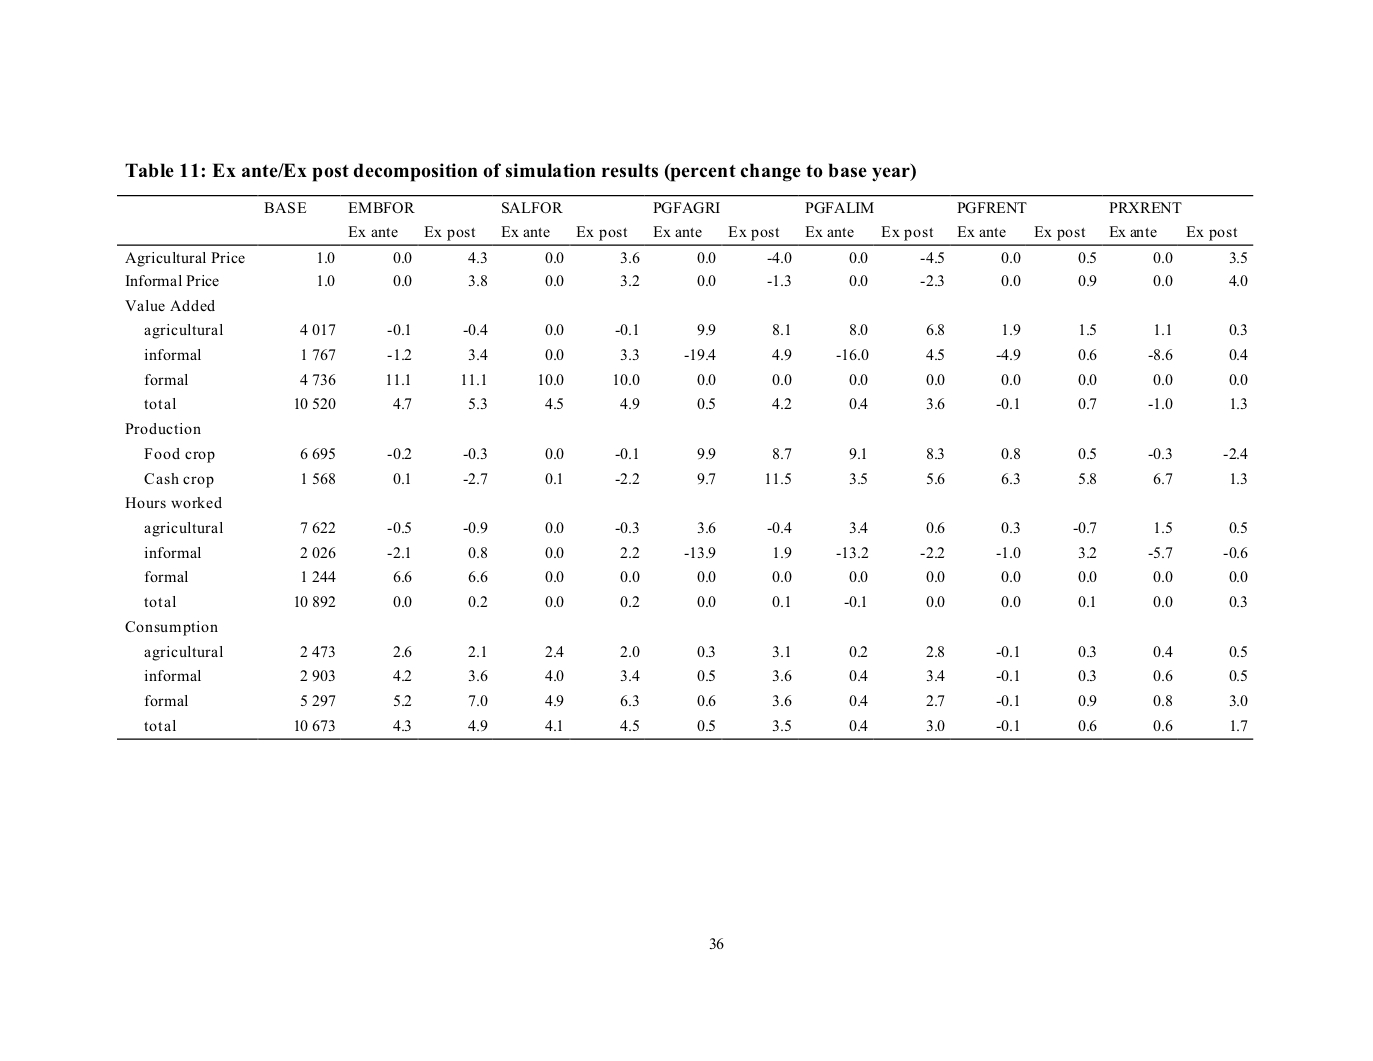Table: (117, 195, 1253, 739)
